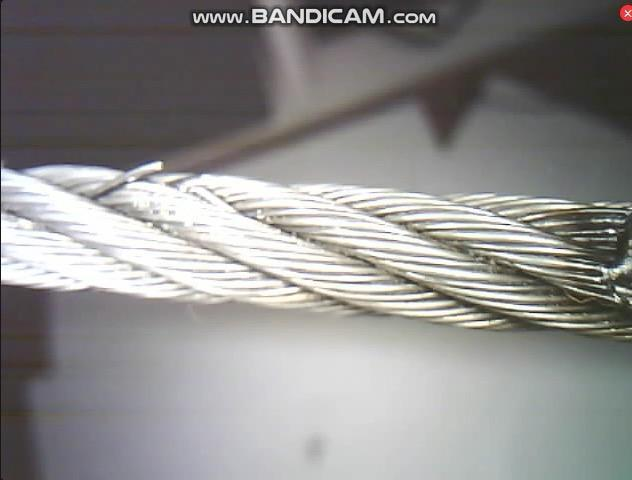break: (105, 148, 215, 203)
thunderbolt: (582, 204, 632, 323)
